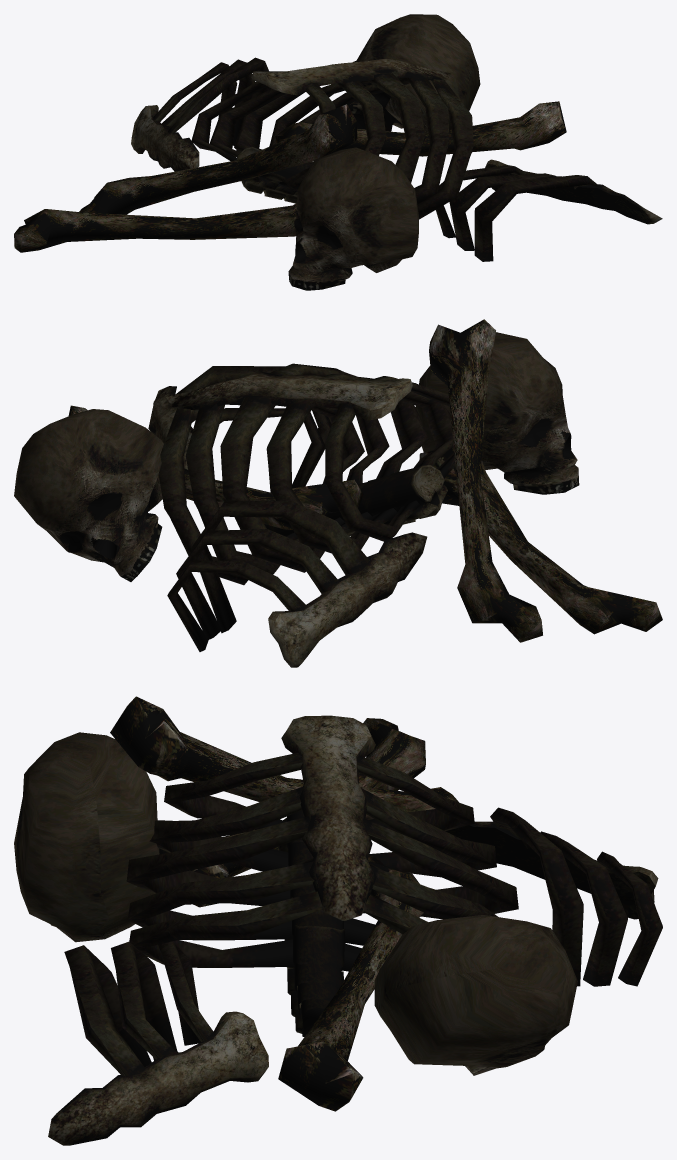
Rendered from bone_pile_charred2.dae.
The picture shows the model from 3 angles, top to bottom: view 1: azimuth 30°, elevation 25°; view 2: azimuth 150°, elevation 25°; view 3: azimuth 270°, elevation 25°; orthographic projection. The views are drawn at different scales.
Parts seen in each view (by area): view 1: ribbcage, polySurface3, polySurface1, polySurface54, polySurface77, polySurface52, polySurface76, polySurface56; view 2: ribbcage, polySurface76, polySurface52, polySurface1, polySurface3, polySurface54, polySurface77, polySurface56; view 3: ribbcage, polySurface52, polySurface77, polySurface3, polySurface76, polySurface56, polySurface1, polySurface54.
Boxes of the visible parts, x1,y1,x2,y2 form: ribbcage: (191, 58, 473, 219); polySurface3: (288, 147, 418, 290); polySurface1: (79, 104, 357, 214); polySurface54: (14, 203, 296, 252); polySurface77: (436, 159, 662, 261); polySurface52: (348, 14, 480, 134); polySurface76: (131, 57, 271, 171); polySurface56: (273, 101, 566, 156); ribbcage: (158, 363, 485, 585); polySurface76: (167, 500, 427, 667); polySurface52: (14, 409, 163, 581); polySurface1: (429, 319, 542, 642); polySurface3: (415, 332, 579, 494); polySurface54: (419, 446, 662, 634); polySurface77: (148, 366, 332, 488); polySurface56: (68, 405, 363, 529); ribbcage: (126, 715, 518, 1036); polySurface52: (374, 915, 577, 1075); polySurface77: (48, 941, 268, 1145); polySurface3: (14, 732, 159, 942); polySurface76: (445, 807, 662, 986); polySurface56: (278, 855, 423, 1111); polySurface1: (110, 696, 458, 819); polySurface54: (159, 718, 425, 907).
Bounding box in the file's own units: 1.31 × 0.4381 × 0.9588.
